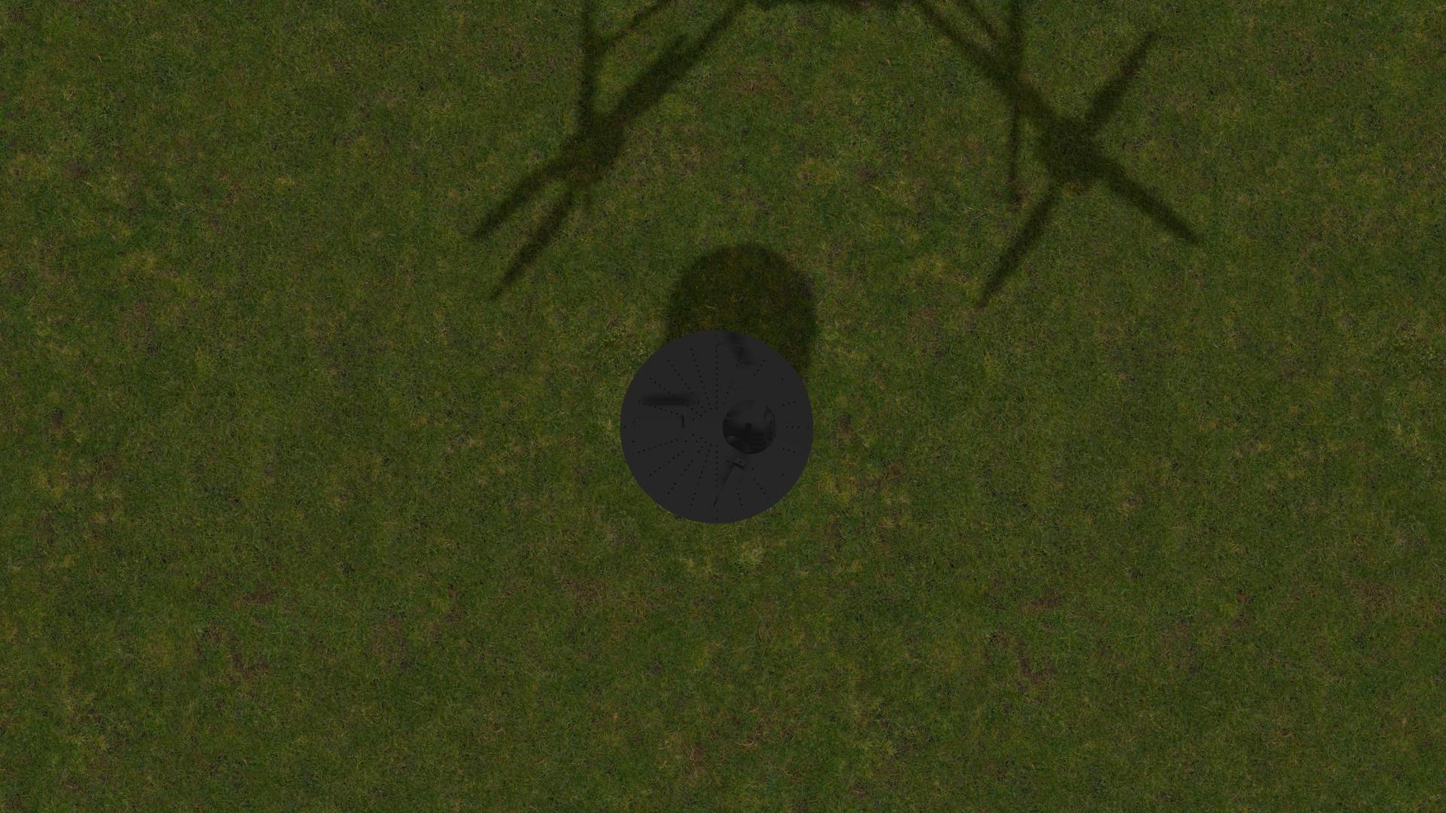alca: (713, 337, 748, 395), (712, 457, 747, 514), (630, 416, 690, 429)
armadilha: (620, 329, 814, 524)
